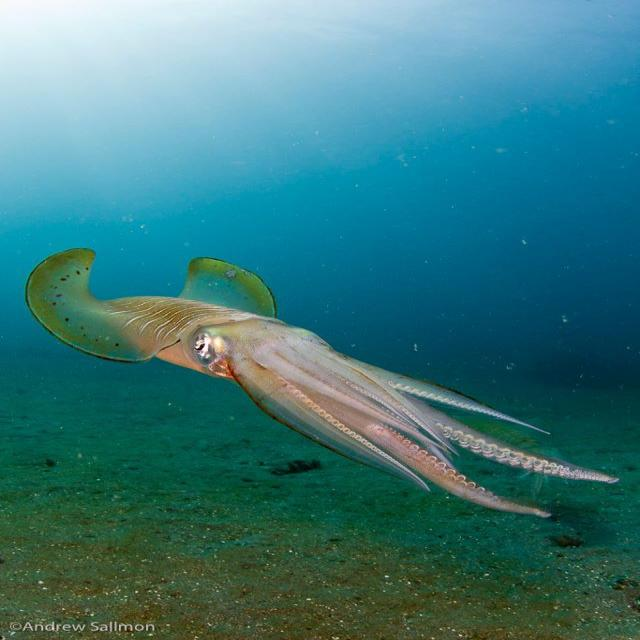SQUID: (5, 228, 640, 560)
